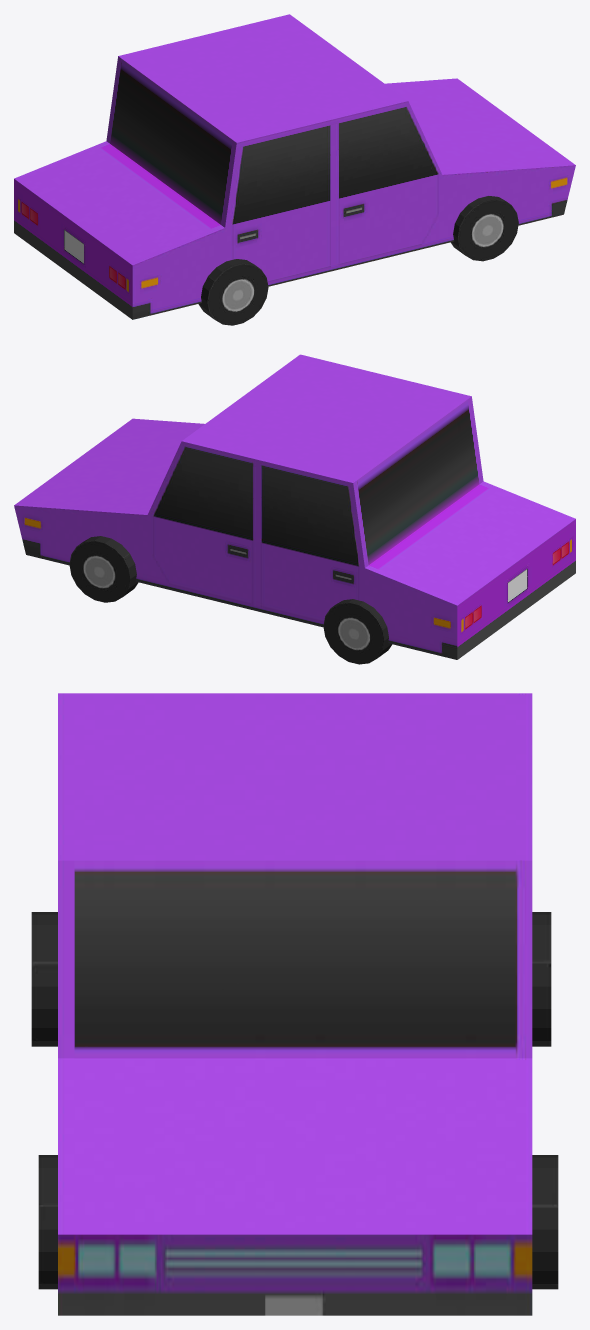
Rendered from item2.glb.
The picture shows the model from 3 angles, top to bottom: view 1: azimuth 30°, elevation 25°; view 2: azimuth 150°, elevation 25°; view 3: azimuth 270°, elevation 25°; orthographic projection. The views are drawn at different scales.
Parts seen in each view (by area): view 1: Car_05; view 2: Car_05; view 3: Car_05.
Boxes of the visible parts, x1,y1,x2,y2 form: Car_05: (14, 14, 575, 325); Car_05: (14, 354, 575, 664); Car_05: (31, 693, 558, 1315).
Bounding box in the file's own units: 0.7654 × 0.2893 × 0.3939.
1 material, 1 textured.
